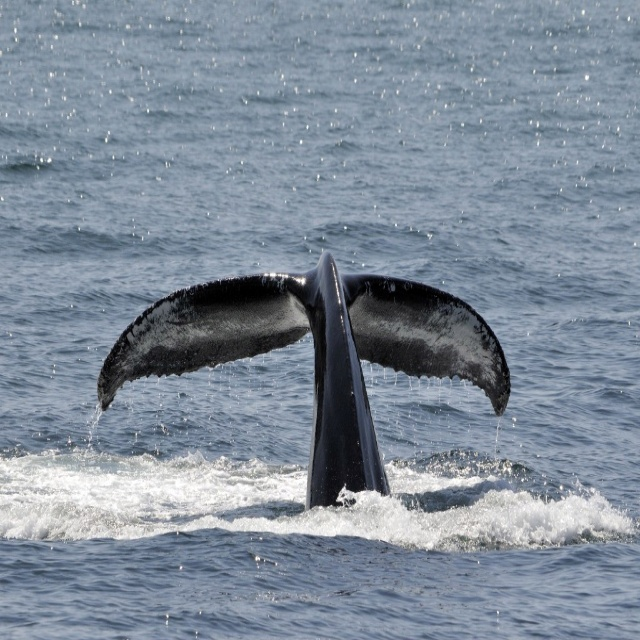Whale: (97, 251, 511, 512)
